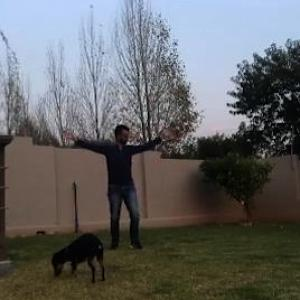takeoff: (47, 121, 171, 262)
